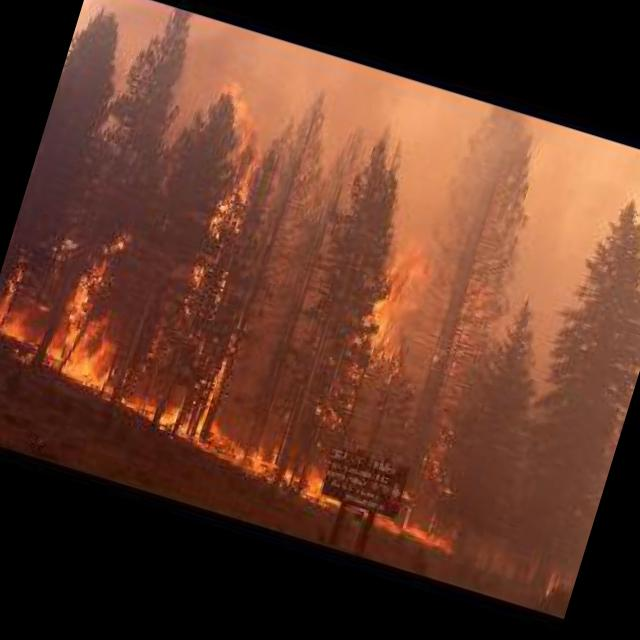fire: (0, 214, 264, 449), (212, 426, 466, 560), (332, 240, 523, 404), (162, 76, 302, 276)
